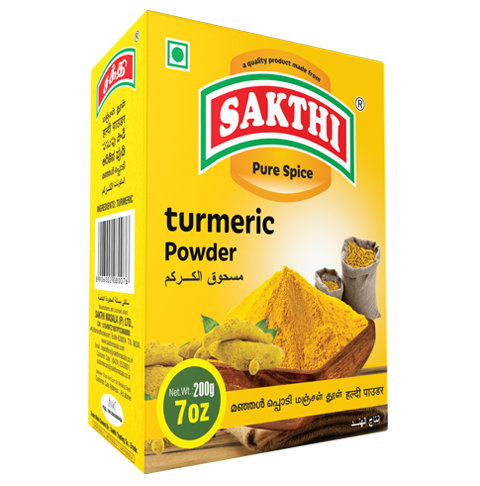VEG: (163, 36, 193, 74)
